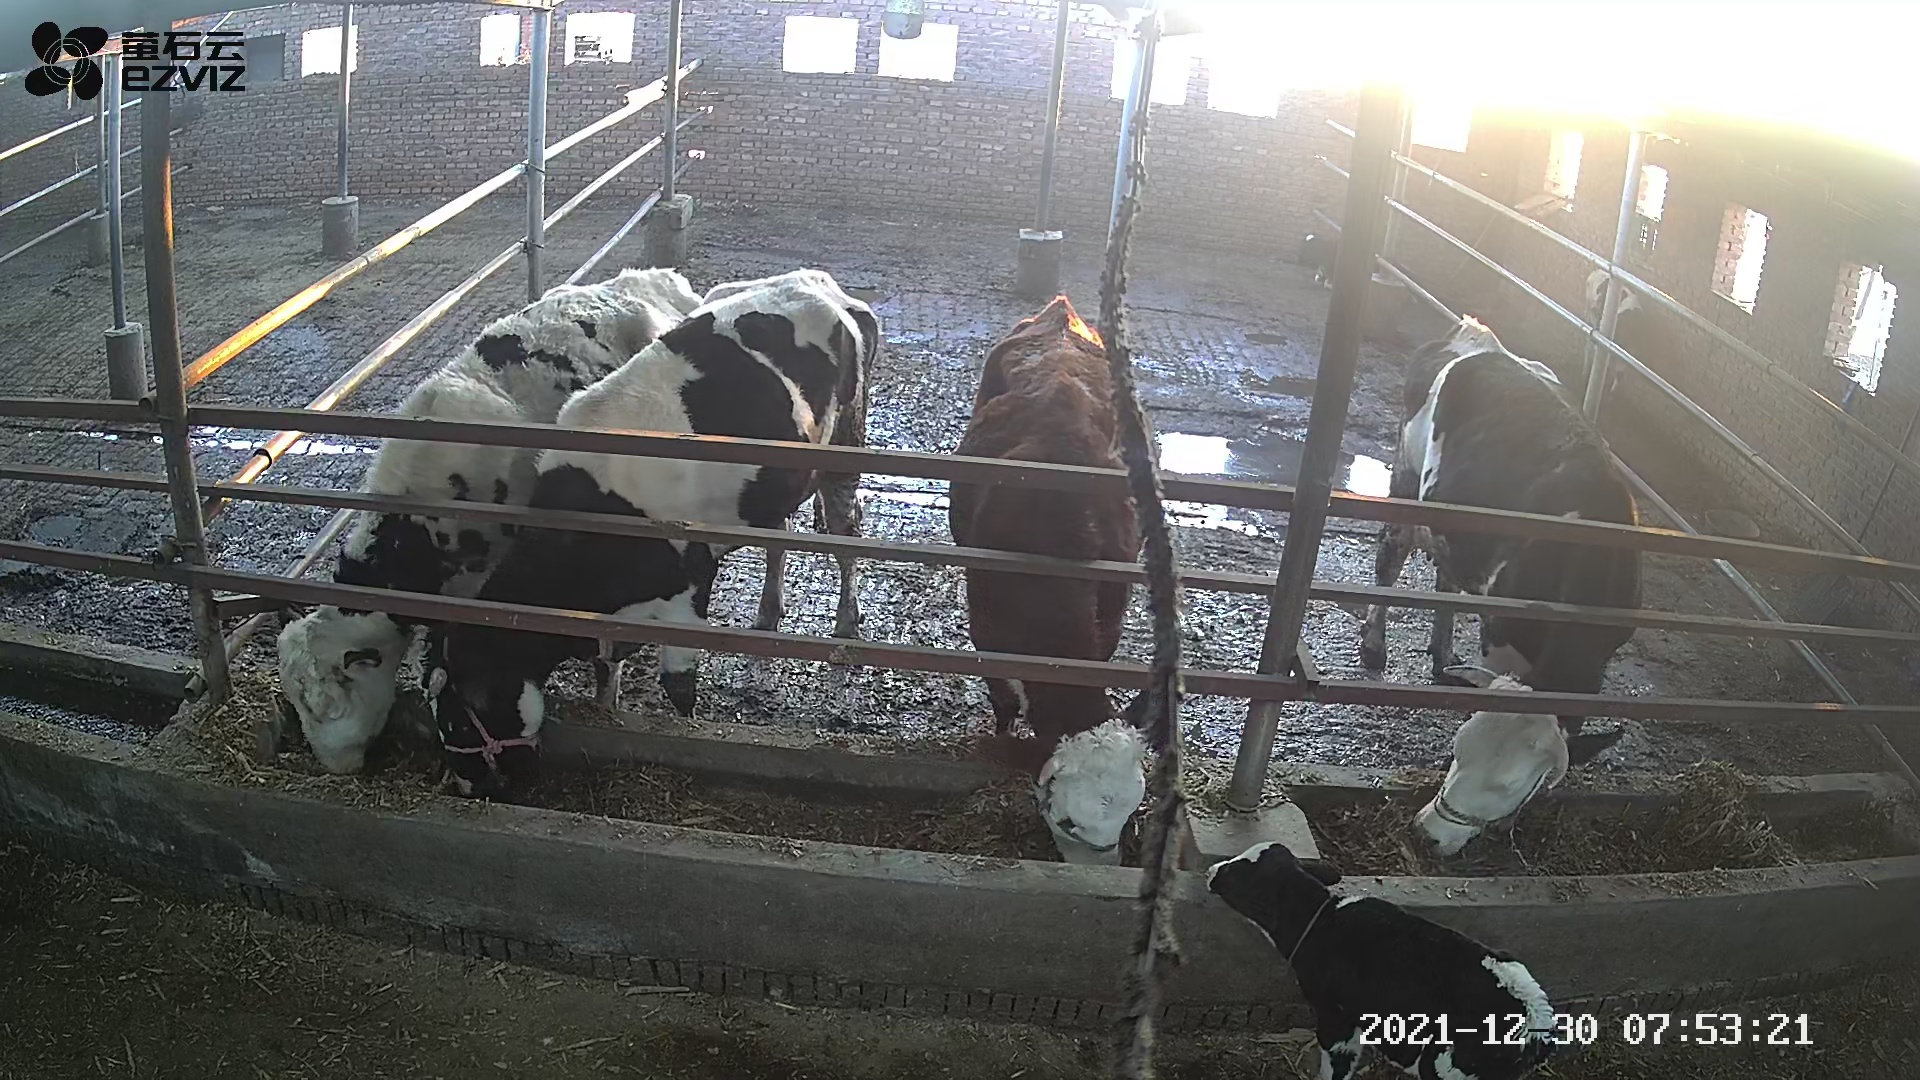cow: (406, 266, 877, 803), (277, 265, 702, 775), (1360, 313, 1640, 860), (945, 297, 1159, 868)
